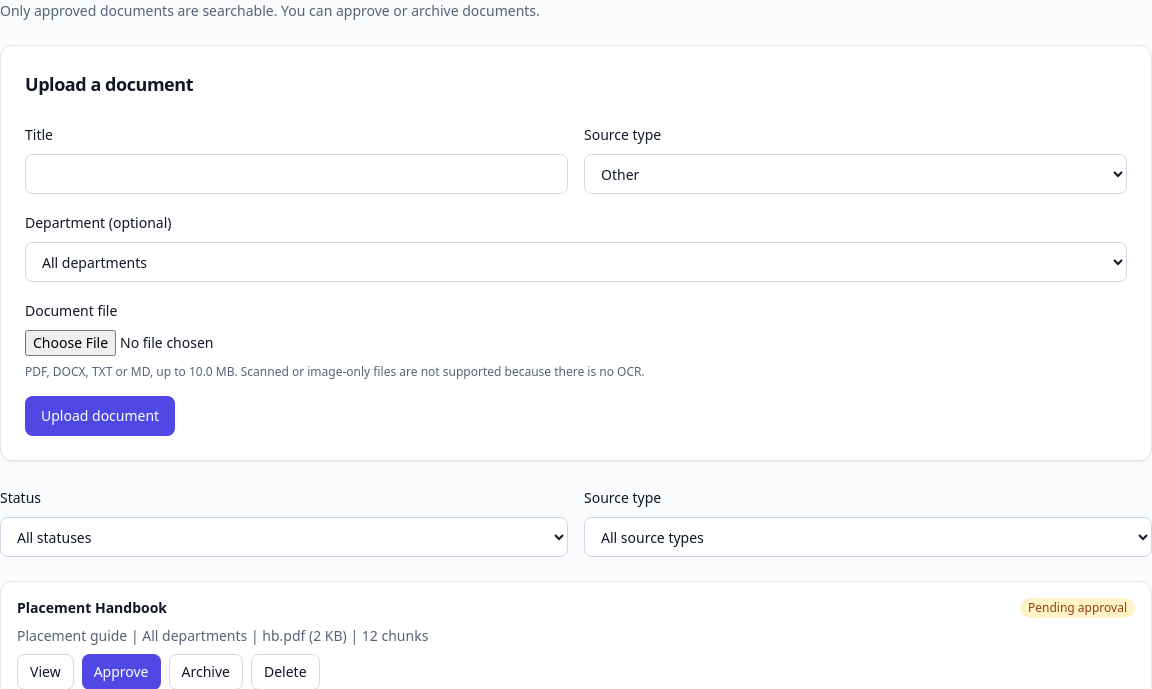
KnowledgeAdminPage › pages through chunks
Check: the text "Placement Handbook" is shown, box [17,598,167,618]
Click the button with aria-label "View Placement Handbook" at (45,672), box [17,654,74,688]
(page scrolled)
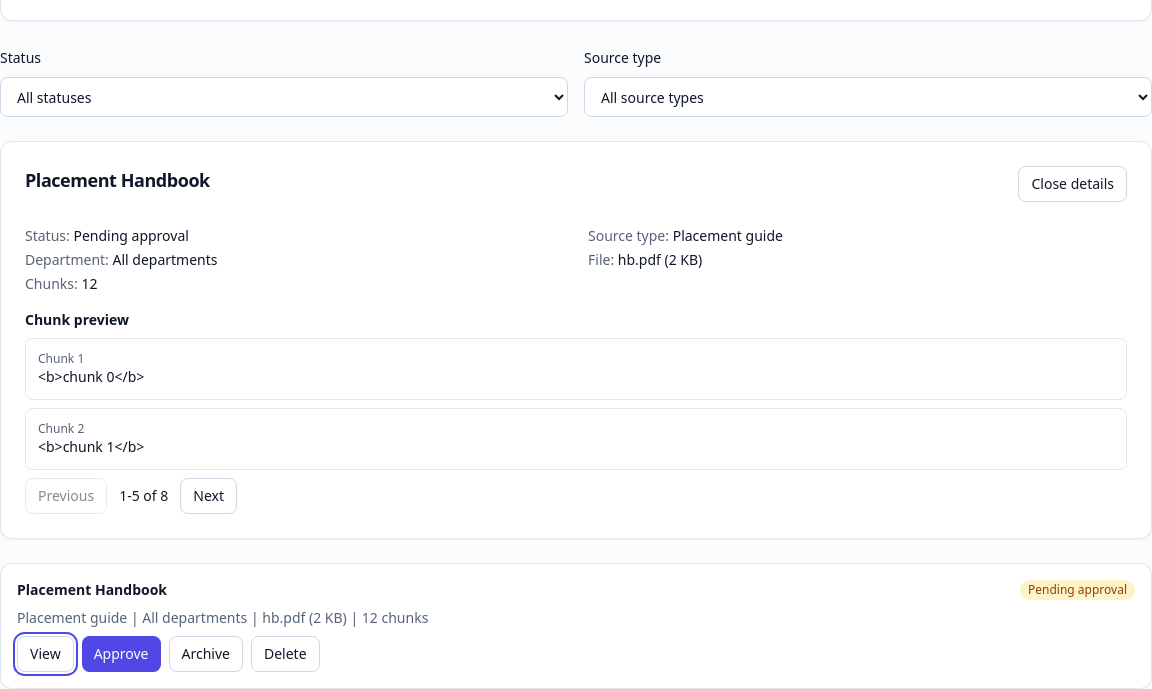
Check: the text "<b>chunk 0</b>" is shown, box [38,367,144,386]
Check: the text with test id "chunk-range" reads "1-5 of 8", box [119,486,168,506]
Click the button "Next" at (209,496), box [180,478,237,514]
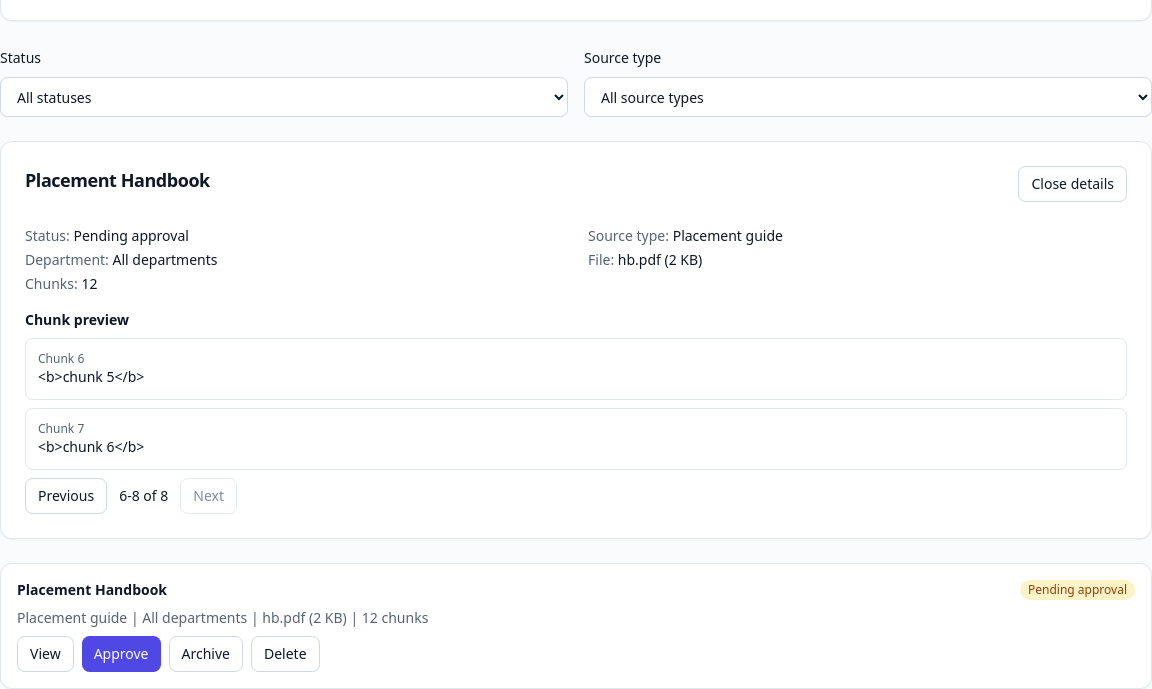
Check: the text "<b>chunk 5</b>" is shown, box [38,367,144,386]
Check: the button "Next" is disabled, box [180,478,237,514]
